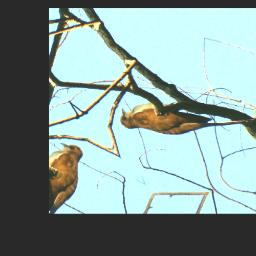Cuckoo: (112, 78, 216, 157)
